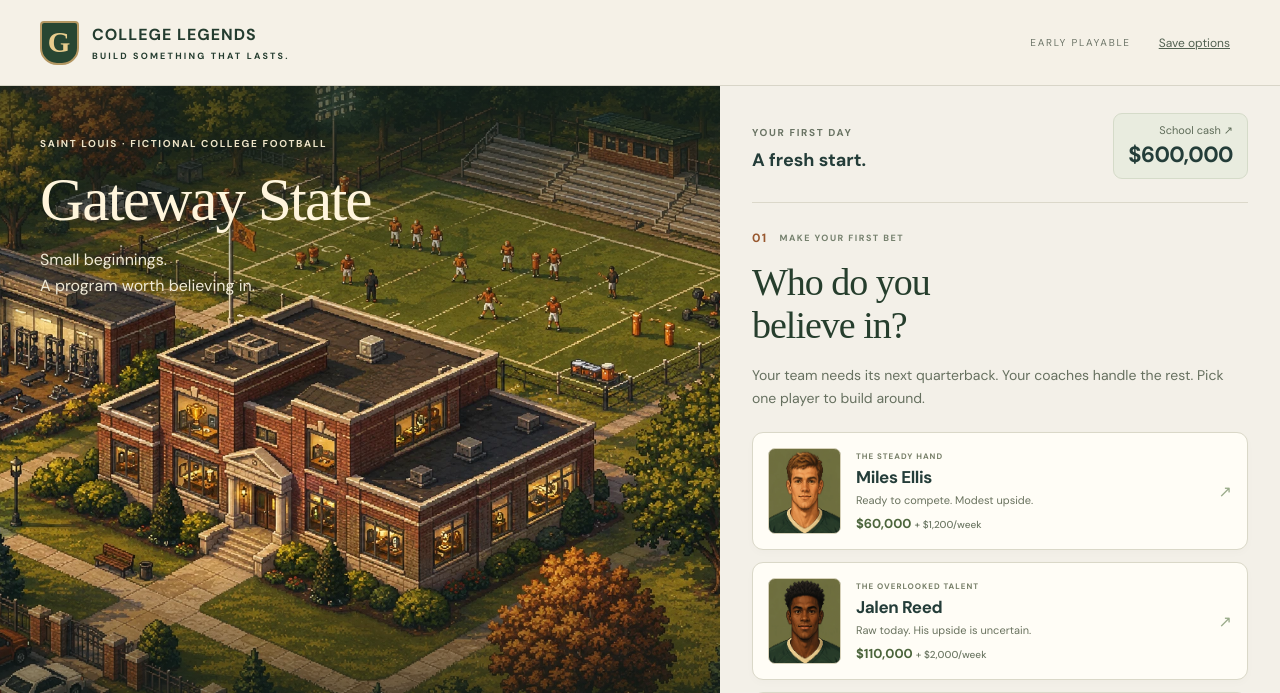
starts with one signing decision and no management navigation
Click the button named "Portrait of Miles Ellis".
click(1000, 491)  # box [752, 432, 1248, 550]
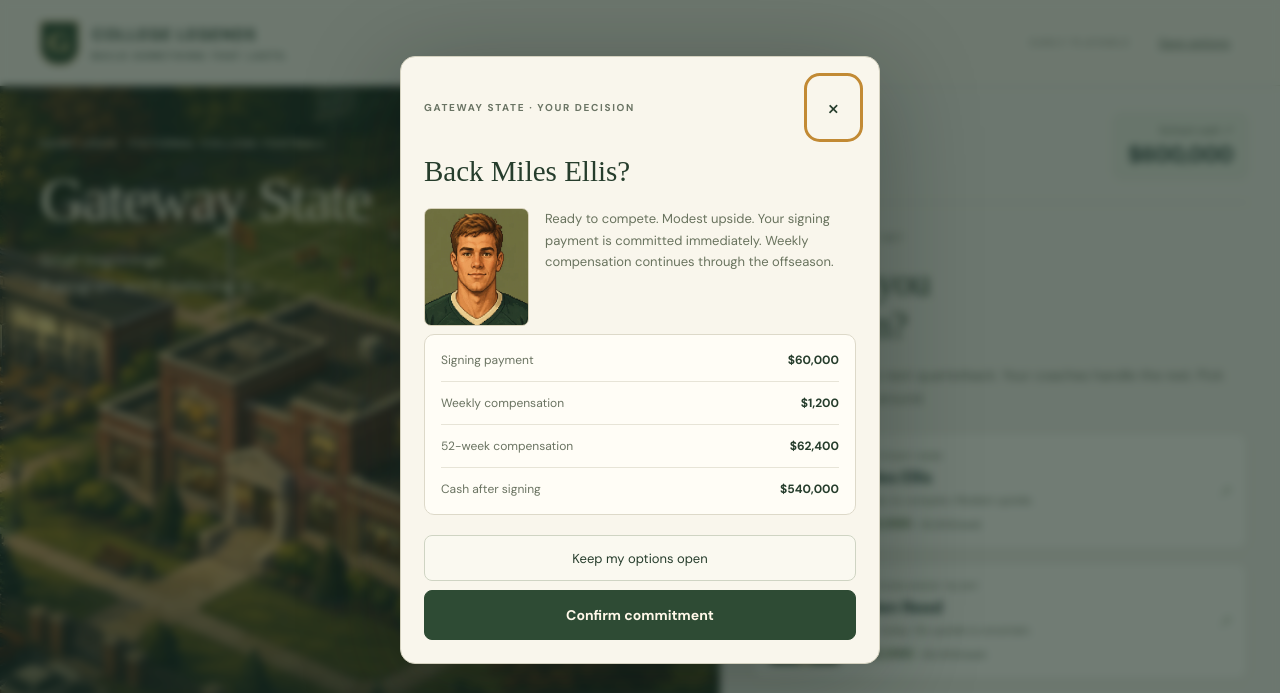
Check: the text "52-week compensation" is shown, box [441, 438, 573, 454]
Click the button "Confirm commitment".
click(640, 615)  # box [424, 590, 856, 640]
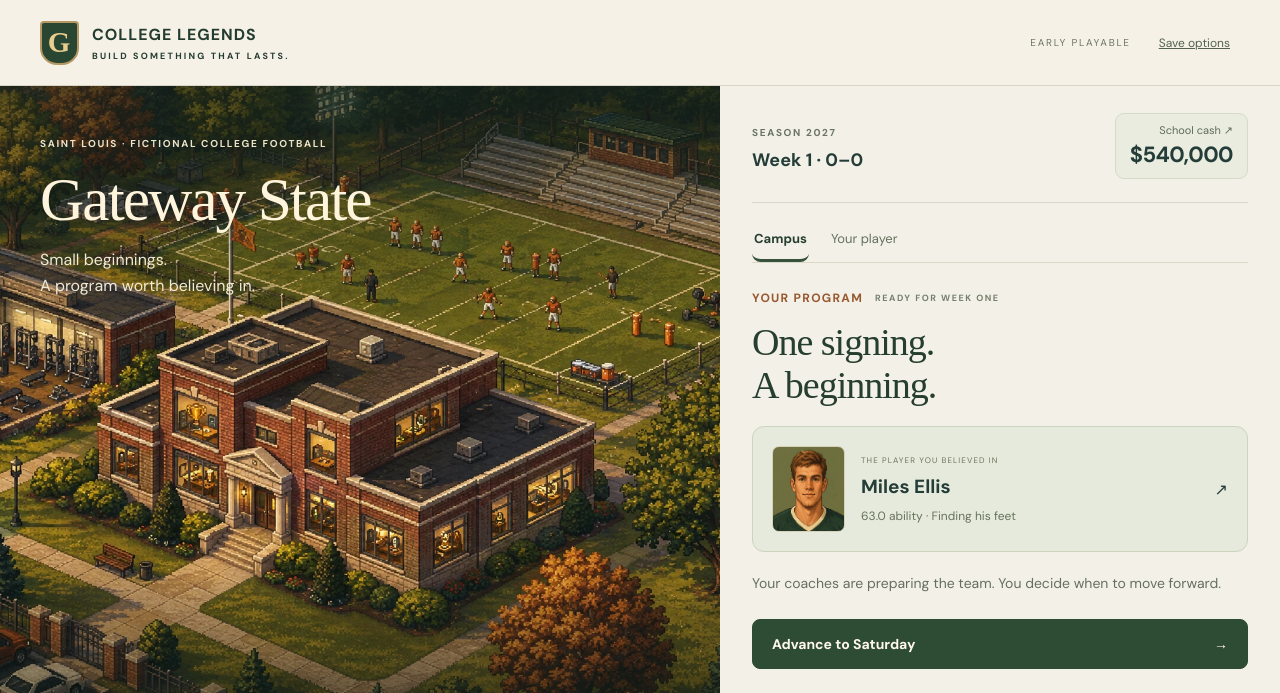
Check: the button "Advance to Saturday →" is shown, box [752, 619, 1248, 669]
